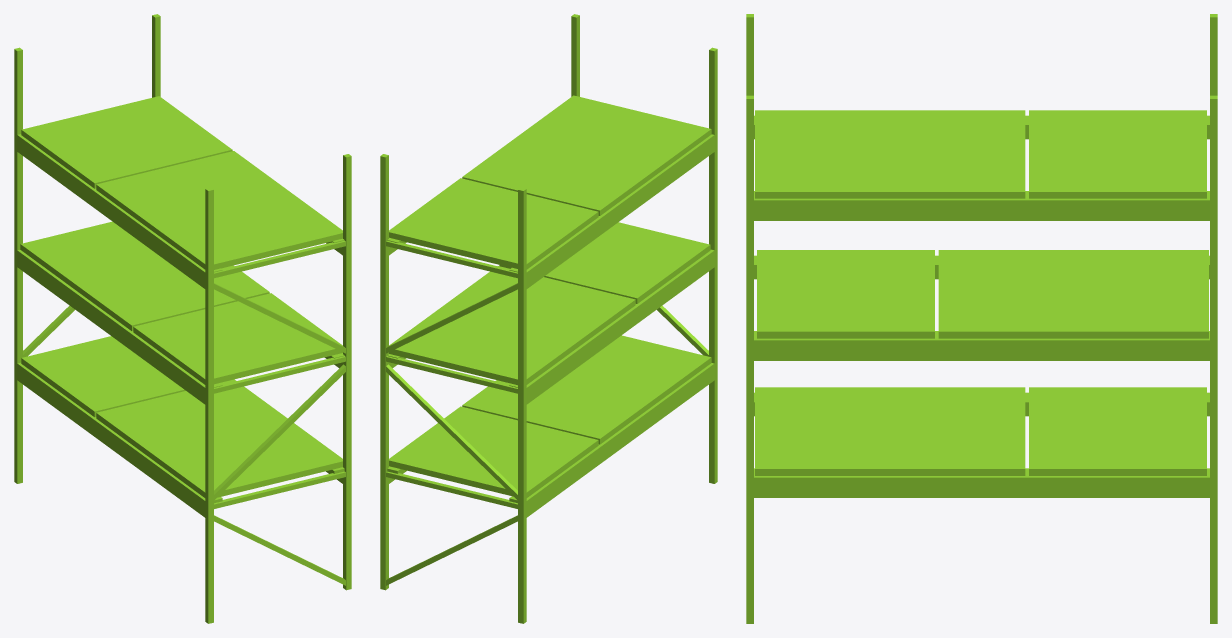
Rendered from SM_CrateShelf_01.fbx.
The picture shows the model from 3 angles, left to right: view 1: azimuth 30°, elevation 25°; view 2: azimuth 150°, elevation 25°; view 3: azimuth 270°, elevation 25°; orthographic projection. The views are drawn at different scales.
Visible parts, largest first — view 1: SM_CrateShelf_01; view 2: SM_CrateShelf_01; view 3: SM_CrateShelf_01.
Boxes of the visible parts, x1=… form: SM_CrateShelf_01: x1=14, y1=14, x2=351, y2=623; SM_CrateShelf_01: x1=380, y1=14, x2=717, y2=623; SM_CrateShelf_01: x1=746, y1=14, x2=1217, y2=623.
Bounding box in the file's own units: 260 × 750 × 610.
